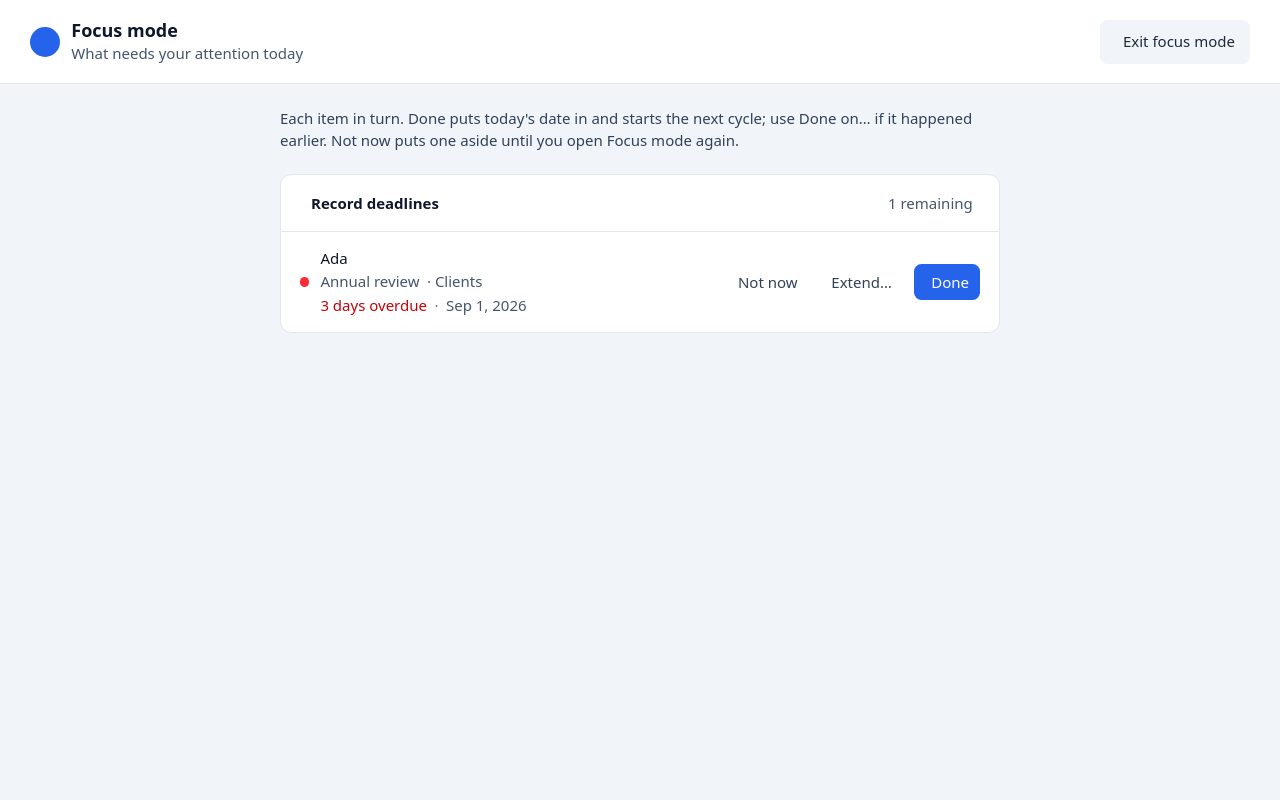
Test: Focus Mode Done › asks for the reading on a meter rule
Click the button with aria-label "Mark Annual review done for Ada" at (947, 282), box left=914, top=264, right=980, bottom=300
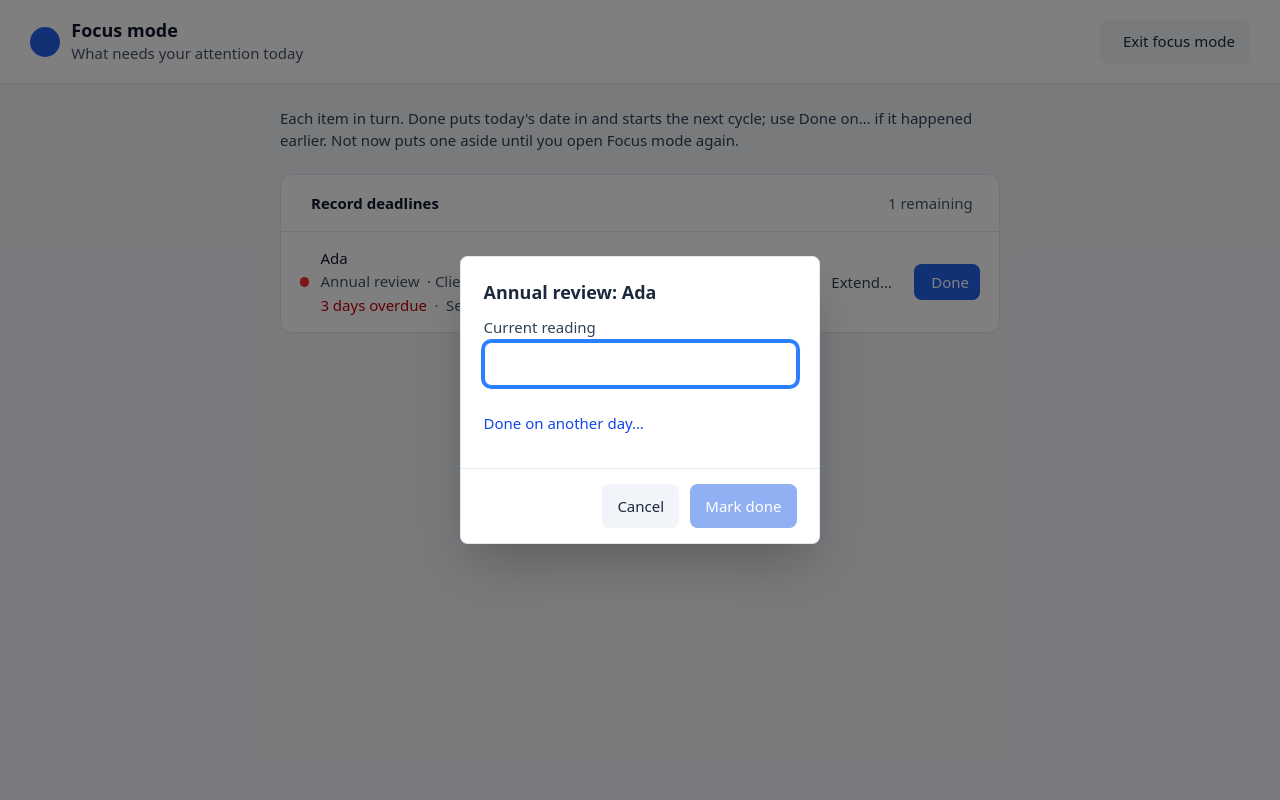
Check: the text "Current reading" is shown, box left=484, top=316, right=796, bottom=386
